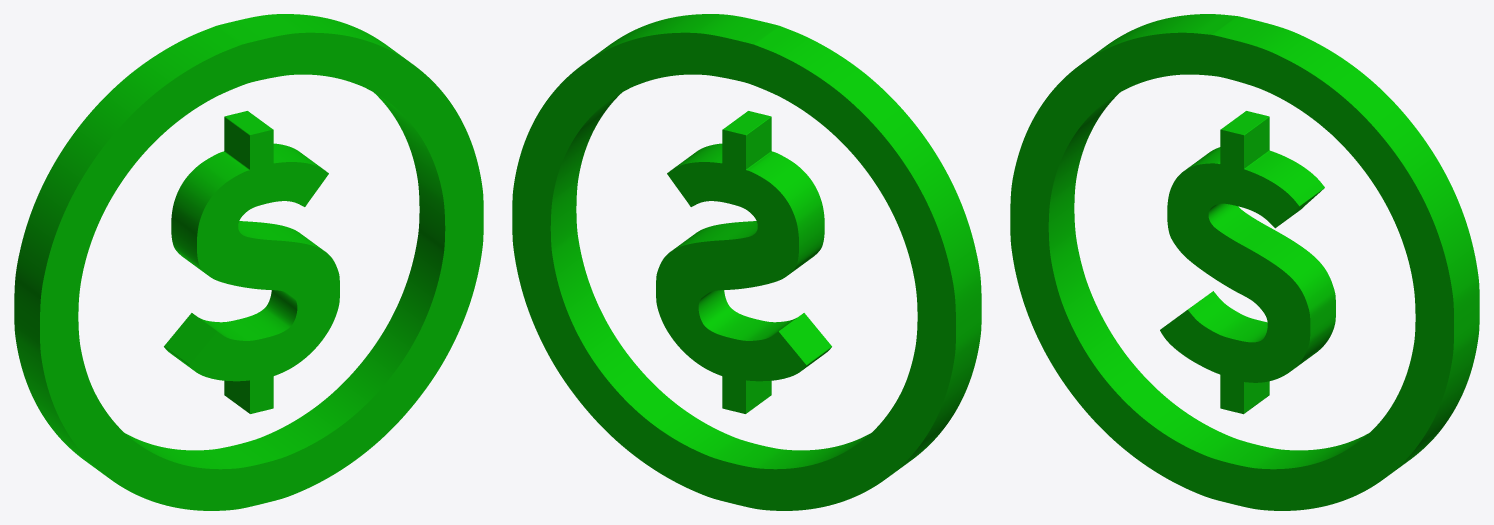
Rendered from dollor_sign.glb.
3 views of the same model, side by side, from view 1: azimuth 30°, elevation 25°; view 2: azimuth 150°, elevation 25°; view 3: azimuth 330°, elevation 25° (orthographic).
Parts seen in each view (by area): view 1: imagetostl_mesh1_1, imagetostl_mesh0_0, imagetostl_mesh3_3, imagetostl_mesh2_2; view 2: imagetostl_mesh1_1, imagetostl_mesh0_0, imagetostl_mesh3_3, imagetostl_mesh2_2; view 3: imagetostl_mesh1_1, imagetostl_mesh0_0, imagetostl_mesh3_3, imagetostl_mesh2_2.
Boxes of the visible parts, x1,y1,x2,y2 form: imagetostl_mesh1_1: (40, 32, 483, 510); imagetostl_mesh0_0: (14, 14, 445, 474); imagetostl_mesh3_3: (189, 129, 339, 413); imagetostl_mesh2_2: (164, 111, 322, 413); imagetostl_mesh1_1: (512, 32, 955, 510); imagetostl_mesh0_0: (550, 14, 981, 474); imagetostl_mesh3_3: (656, 129, 806, 413); imagetostl_mesh2_2: (673, 111, 831, 413); imagetostl_mesh1_1: (1010, 32, 1453, 510); imagetostl_mesh0_0: (1048, 14, 1479, 473); imagetostl_mesh3_3: (1160, 129, 1310, 413); imagetostl_mesh2_2: (1181, 111, 1335, 413).
Size of the model in its own units: 99.83 by 99.85 by 10.
